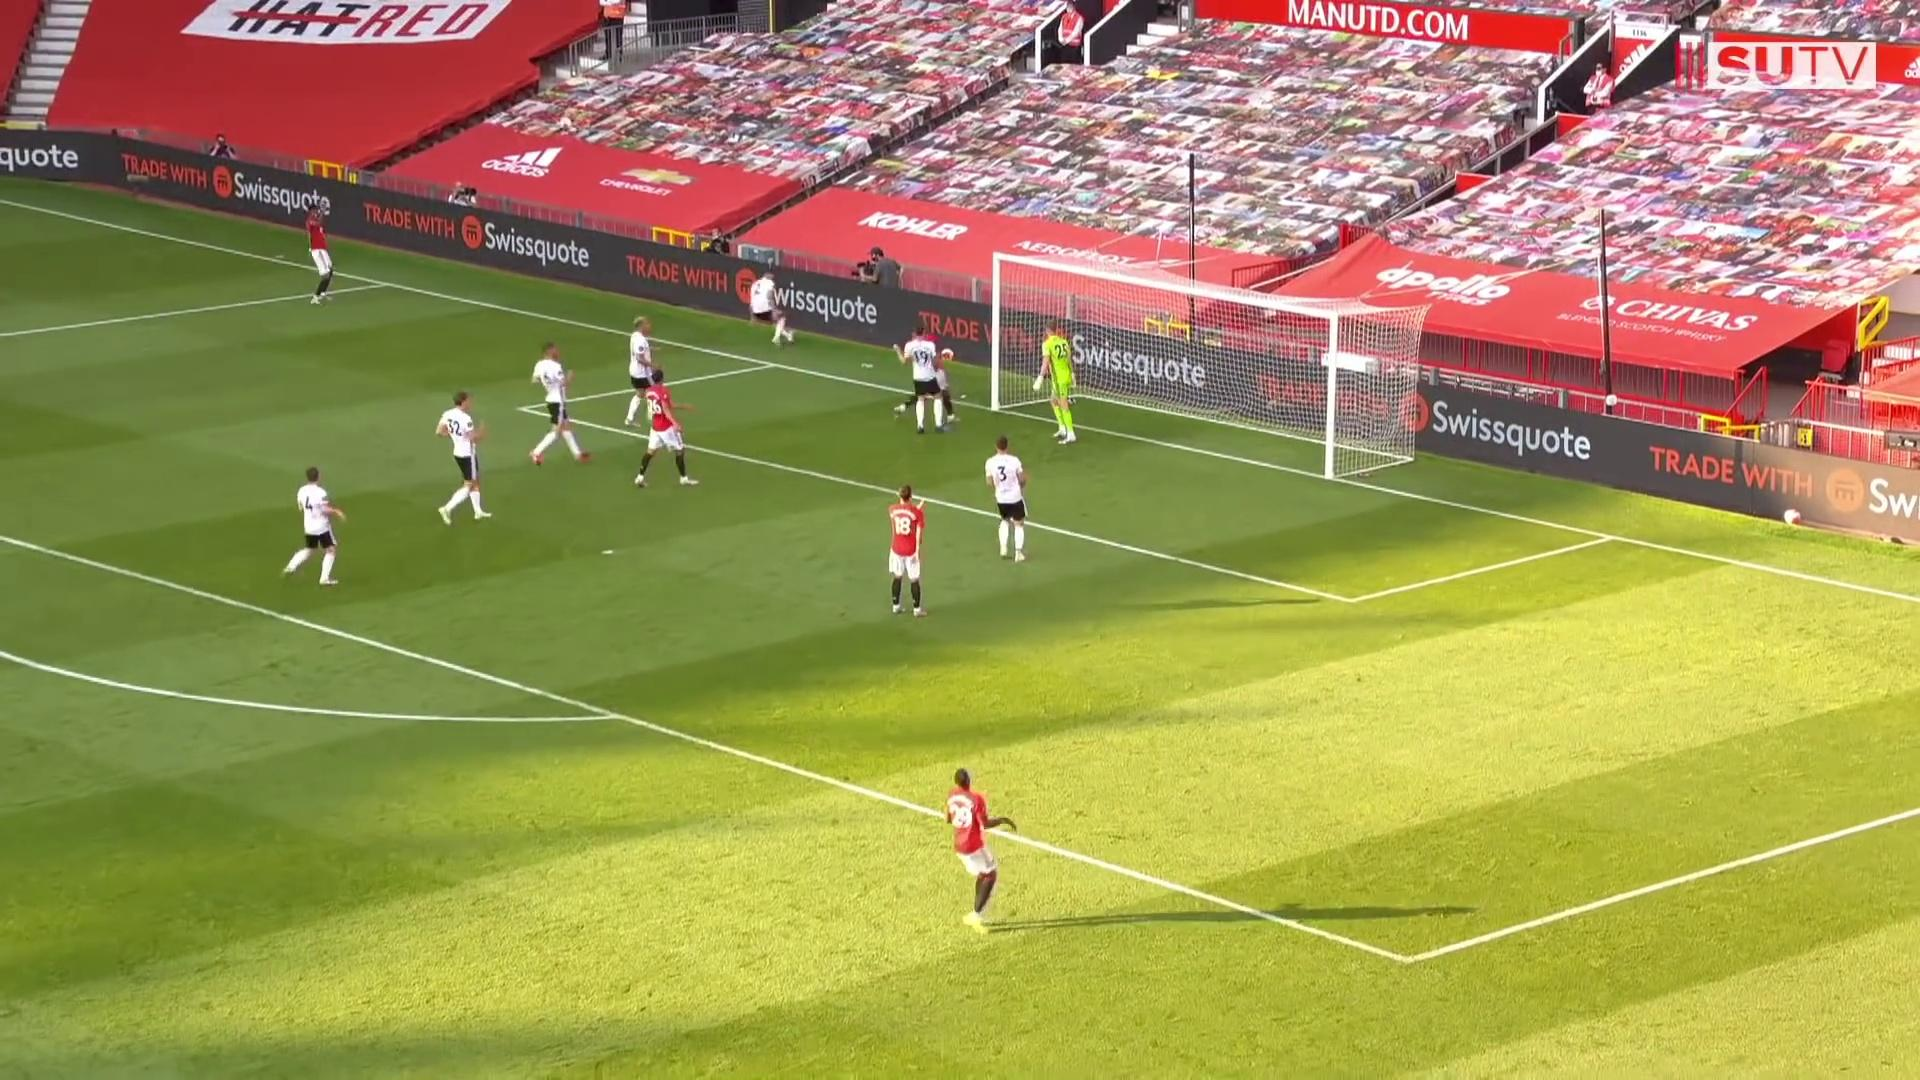ball: (1783, 502, 1811, 529), (938, 344, 956, 364)
goalkeeper: (1030, 322, 1082, 447)
player: (950, 766, 1016, 934), (519, 343, 589, 474), (437, 386, 502, 527), (280, 461, 351, 588), (633, 367, 703, 488), (895, 320, 961, 436), (880, 484, 933, 625), (982, 434, 1031, 566), (625, 314, 671, 428), (299, 202, 339, 310), (746, 266, 796, 349)
